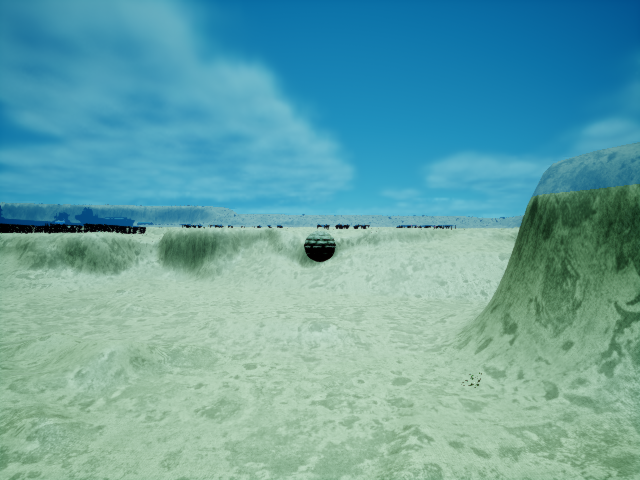Disk: (296, 226, 340, 267)
